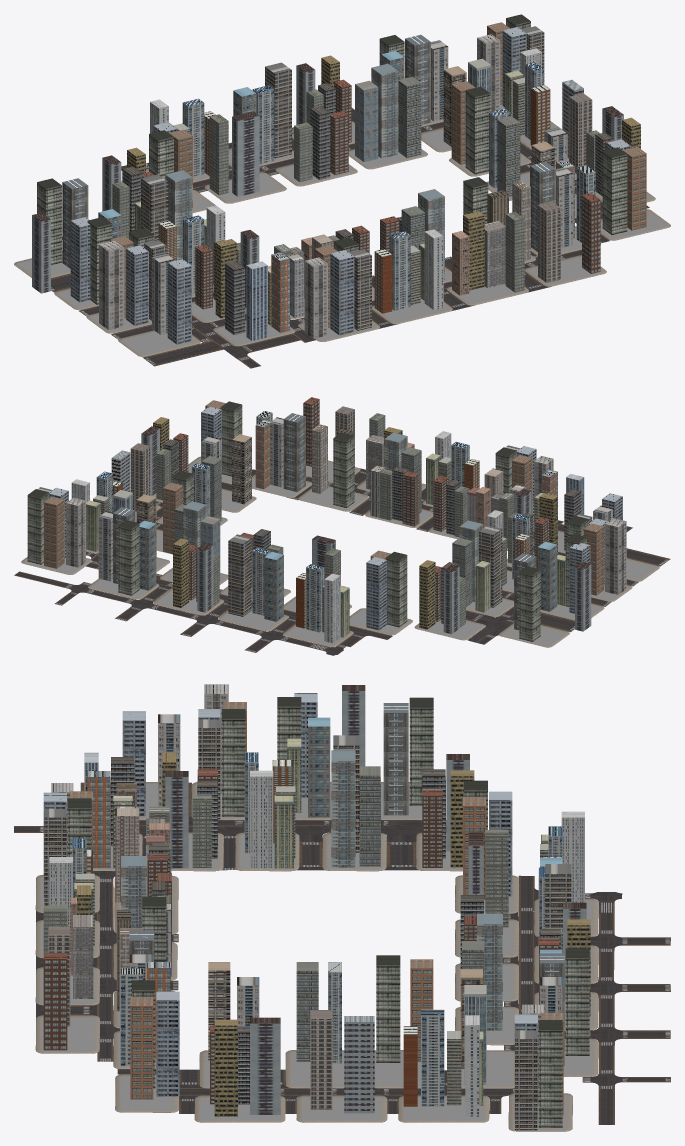
File: EntornoFull.FBX
The picture shows the model from 3 angles, top to bottom: view 1: azimuth 30°, elevation 25°; view 2: azimuth 150°, elevation 25°; view 3: azimuth 270°, elevation 25°; orthographic projection. The views are drawn at different scales.
Parts seen in each view (by area): view 1: Rectangle012, EdificioEntorno100, EdificioEntorno104, EdificioEntorno120, EdificioEntorno134, EdificioEntorno071, EdificioEntorno126, EdificioEntorno088, EdificioEntorno089, EdificioEntorno072, EdificioEntorno070, EdificioEntorno098 (+81 smaller); view 2: Rectangle010, Rectangle012, EdificioEntorno098, EdificioEntorno109, EdificioEntorno104, EdificioEntorno096, EdificioEntorno132, EdificioEntorno110, EdificioEntorno123, EdificioEntorno124, EdificioEntorno073, EdificioEntorno131 (+91 smaller); view 3: Rectangle010, Rectangle012, Rectangle011, EdificioEntorno061, EdificioEntorno118, EdificioEntorno084, EdificioEntorno133, EdificioEntorno096, EdificioEntorno074, EdificioEntorno134, EdificioEntorno121, EdificioEntorno106 (+82 smaller).
Part boxes in pixels (left/top/right/bottom): Rectangle012: left=51, top=237, right=300, bottom=368; EdificioEntorno100: left=232, top=111, right=259, bottom=196; EdificioEntorno104: left=99, top=240, right=124, bottom=329; EdificioEntorno120: left=602, top=147, right=627, bottom=234; EdificioEntorno134: left=465, top=86, right=490, bottom=174; EdificioEntorno071: left=371, top=63, right=398, bottom=158; EdificioEntorno126: left=167, top=259, right=191, bottom=344; EdificioEntorno088: left=330, top=250, right=354, bottom=335; EdificioEntorno089: left=304, top=257, right=327, bottom=338; EdificioEntorno072: left=398, top=76, right=421, bottom=158; EdificioEntorno070: left=355, top=80, right=378, bottom=161; EdificioEntorno098: left=265, top=62, right=291, bottom=158; Rectangle010: left=14, top=469, right=392, bottom=655; Rectangle012: left=466, top=524, right=670, bottom=644; EdificioEntorno098: left=228, top=534, right=251, bottom=616; EdificioEntorno109: left=283, top=413, right=305, bottom=491; EdificioEntorno104: left=605, top=518, right=626, bottom=594; EdificioEntorno096: left=118, top=520, right=139, bottom=595; EdificioEntorno132: left=519, top=566, right=540, bottom=641; EdificioEntorno110: left=333, top=432, right=354, bottom=507; EdificioEntorno123: left=386, top=551, right=407, bottom=627; EdificioEntorno124: left=366, top=557, right=386, bottom=630; EdificioEntorno073: left=44, top=496, right=64, bottom=568; EdificioEntorno131: left=479, top=525, right=502, bottom=607; Rectangle010: left=117, top=875, right=670, bottom=1124; Rectangle012: left=14, top=782, right=446, bottom=870; Rectangle011: left=36, top=871, right=178, bottom=1061; EdificioEntorno061: left=250, top=1017, right=280, bottom=1114; EdificioEntorno118: left=344, top=1016, right=374, bottom=1113; EdificioEntorno084: left=331, top=750, right=355, bottom=867; EdificioEntorno133: left=383, top=703, right=408, bottom=815; EdificioEntorno096: left=565, top=948, right=589, bottom=1055; EdificioEntorno074: left=538, top=1020, right=562, bottom=1127; EdificioEntorno134: left=376, top=955, right=400, bottom=1062; EdificioEntorno121: left=156, top=991, right=179, bottom=1096; EdificioEntorno106: left=222, top=709, right=245, bottom=816.
Bounding box in the file's own units: 37074 × 5213 × 28977.
